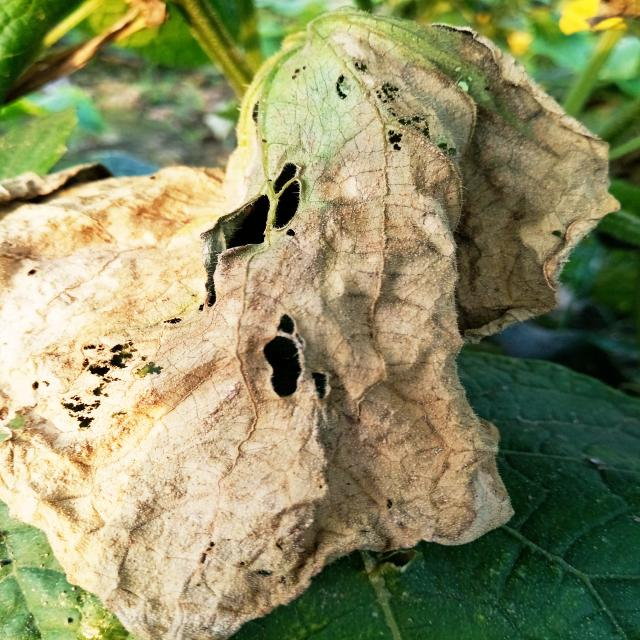Anthracnose: (184, 159, 310, 311), (31, 334, 175, 446), (261, 311, 335, 405)
